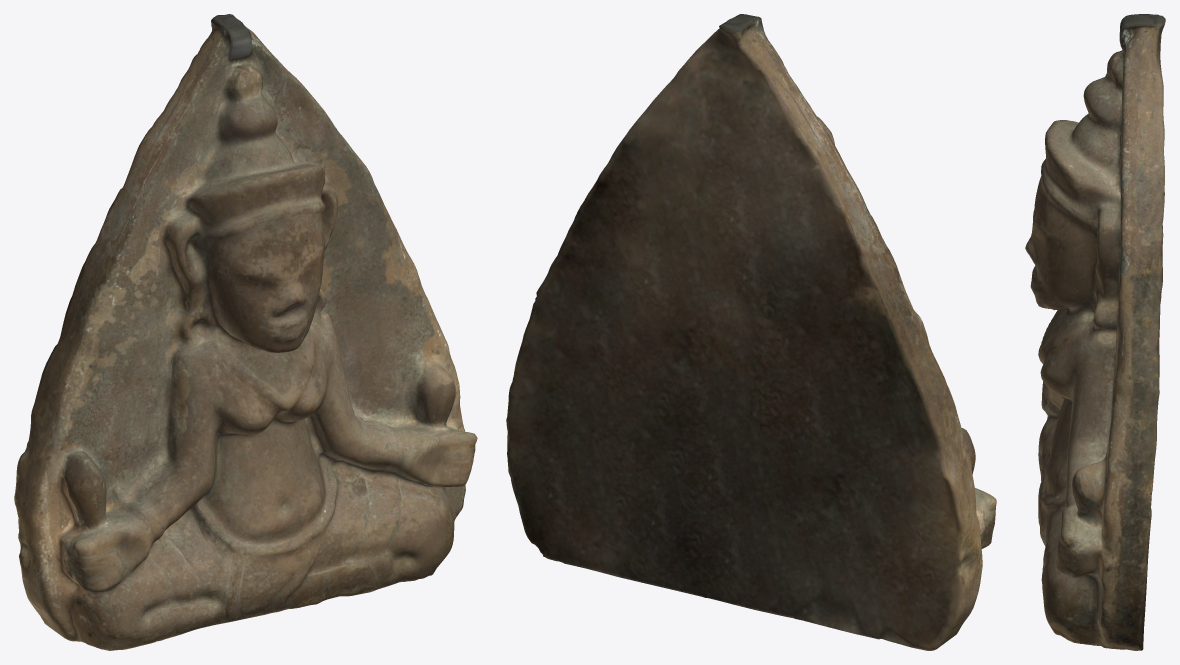
The model's file is 29_laskmi_final.glb.
The picture shows the model from 3 angles, left to right: view 1: azimuth 30°, elevation 25°; view 2: azimuth 150°, elevation 25°; view 3: azimuth 270°, elevation 25°; orthographic projection. The views are drawn at different scales.
Size of the model in its own units: 0.288 by 0.3543 by 0.0829.
1 material, 1 textured.
